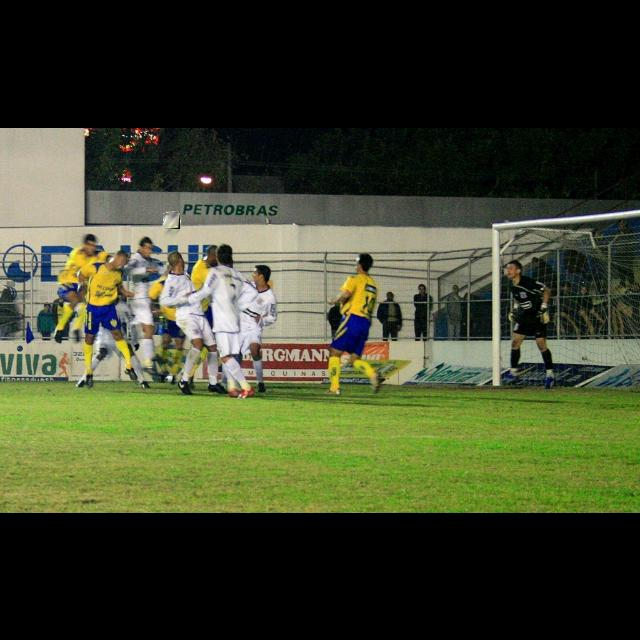Football: (164, 211, 180, 229)
